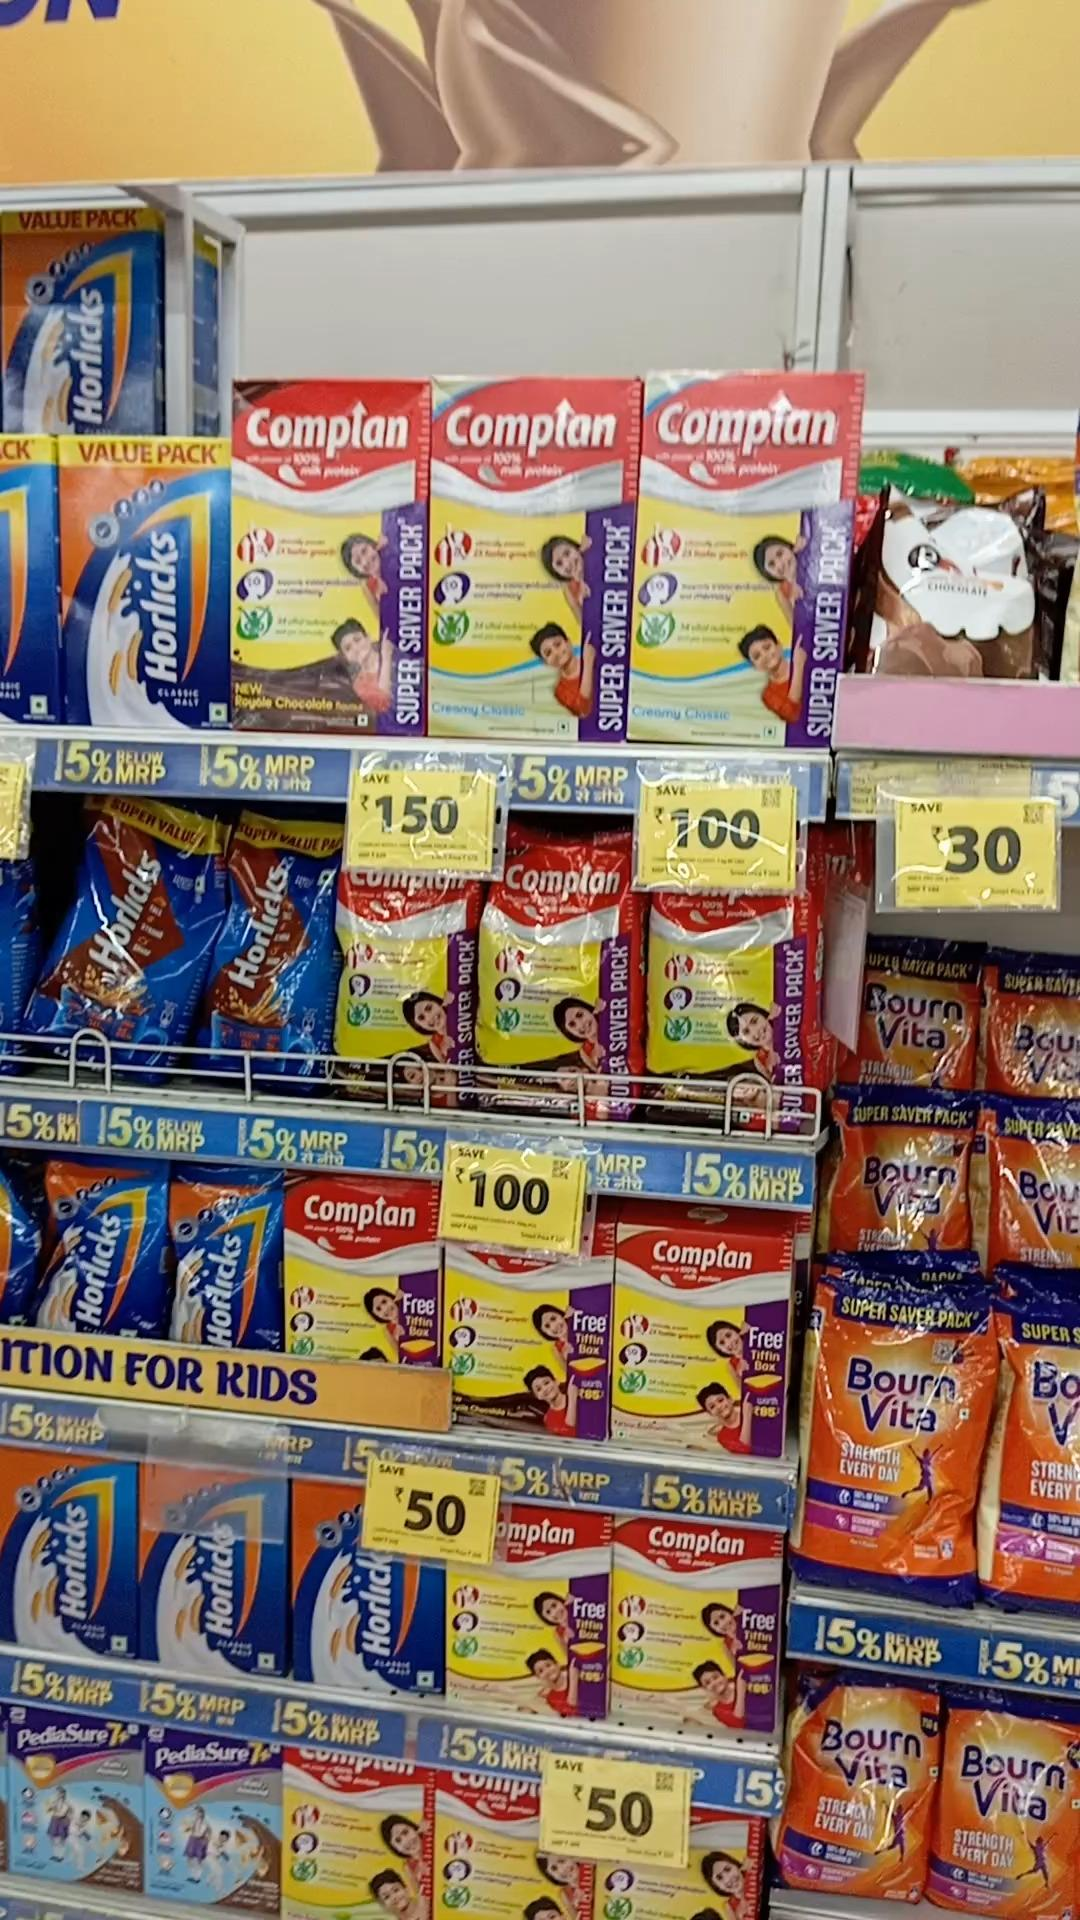BOURN_VITA_1_KG_POUCH: (816, 1292, 1001, 1598)
BOURN_VITA_750_G_POUCH: (778, 1668, 934, 1900), (944, 1696, 1080, 1920)
COMPLAN_CHOCOLATE_1_KG_PACK: (229, 378, 421, 738)
COMPLAN_CHOCOLATE_500_GMS_PACK: (444, 1217, 612, 1445), (284, 1172, 446, 1356)
COMPLAN_KESAR_BADAM_500_GMS_PACK: (617, 1211, 795, 1445), (455, 1510, 617, 1725), (617, 1528, 781, 1733)
COMPLAN_RC_POUCH_700_GMS_12: (480, 815, 636, 1116), (644, 881, 819, 1134), (336, 852, 475, 1096)
HORLICK_CHOCOLATE_750_G_POUCH: (63, 785, 212, 1079), (215, 799, 335, 1085)
HORLICK_CLASSIC_MALT_500_G_PACK: (298, 1477, 446, 1693), (0, 1440, 144, 1651), (148, 1465, 290, 1672)
HORLICK_CLASSIC_MALT_750_G_POUCH: (165, 1159, 280, 1350), (51, 1149, 154, 1340)
PEDIASURE_7_PLUS_CHOCOLATE_400_G_PACK: (141, 1731, 280, 1919), (5, 1708, 136, 1888)
